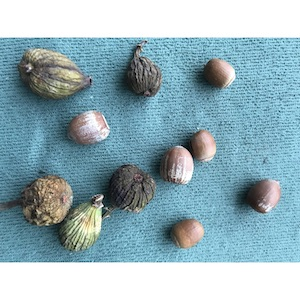fig: (15, 46, 95, 103), (53, 190, 108, 254), (15, 173, 75, 229), (101, 162, 157, 218), (119, 54, 163, 101)
hazelnut: (64, 108, 114, 147), (241, 174, 285, 216), (158, 144, 197, 187), (167, 215, 206, 249), (200, 56, 237, 91), (187, 127, 219, 164)
